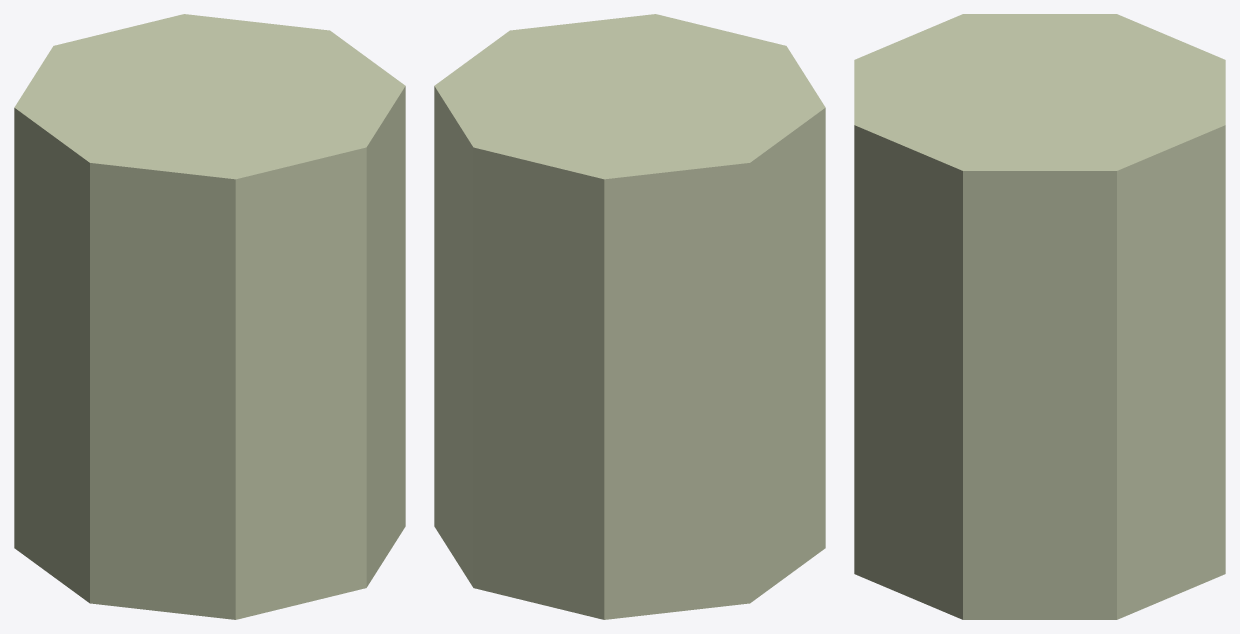
Rendered from nashira_crew_s1_1_collider.obj.
The picture shows the model from 3 angles, left to right: view 1: azimuth 30°, elevation 25°; view 2: azimuth 150°, elevation 25°; view 3: azimuth 270°, elevation 25°; orthographic projection.
Visible parts, largest first — view 1: collider; view 2: collider; view 3: collider.
Part boxes in pixels (x1,y1,x2,y2): collider: [14, 14, 405, 619]; collider: [434, 14, 825, 619]; collider: [854, 14, 1225, 619].
Bounding box in the file's own units: 1.5 × 2 × 1.5.
